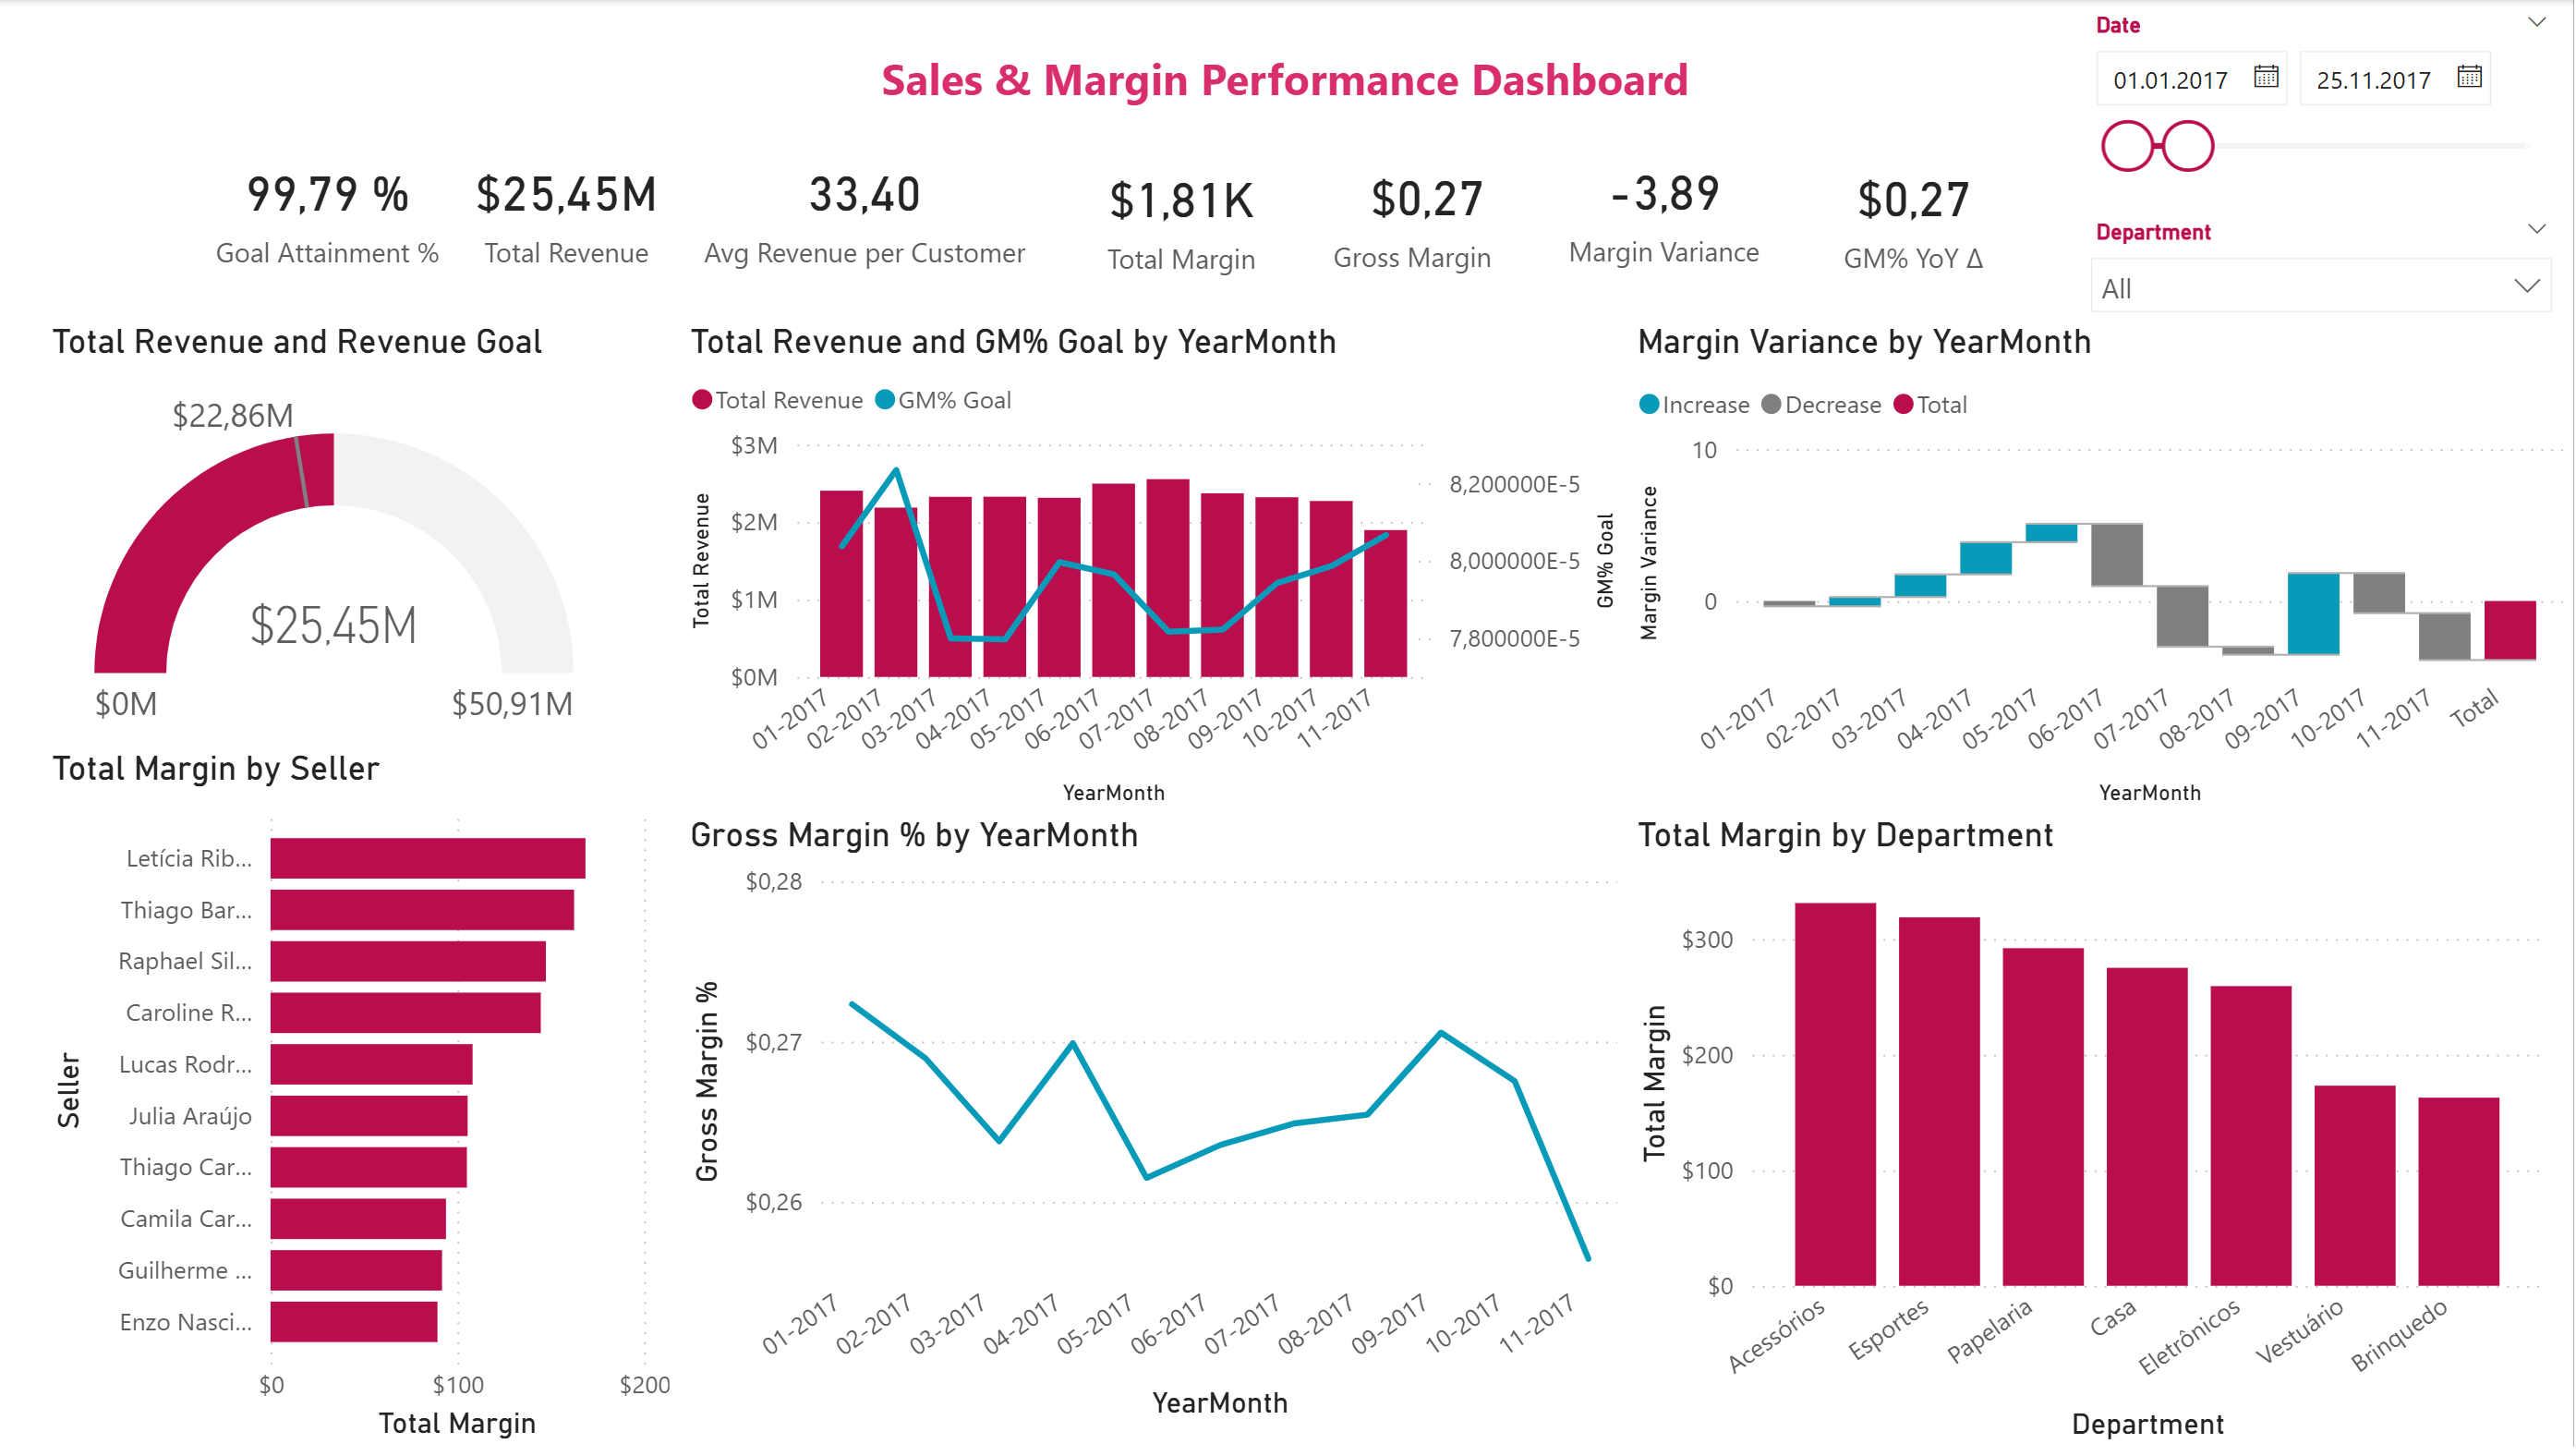

The page's visual inventory and layout, read from the dashboard file:
{"tool":"powerbi","page":{"name":"Sales & Margin Performance Dashboard","canvas":[1280,720],"ordinal":0},"visuals":[{"type":"textbox","box":[10,0,280,280],"z":0},{"type":"textbox","box":[405,19.5,470,47.4],"z":1000},{"type":"card","fields":{"Values":["zz_Measures.Total Revenue"]},"box":[225.8,67.5,113.3,73.1],"z":2000},{"type":"slicer","fields":{"Values":["dim_date.date_id"]},"box":[1030.4,0.9,249.5,103],"z":3000},{"type":"slicer","fields":{"Values":["dim_department.department_name"]},"box":[1030.4,103.9,249.5,56],"z":4000},{"type":"card","fields":{"Values":["zz_Measures.Gross Margin %"]},"box":[654,69.9,112.5,73.1],"z":5000},{"type":"card","fields":{"Values":["zz_Measures.Total Margin"]},"box":[522.2,70.7,131.8,73.1],"z":6000},{"type":"card","fields":{"Values":["zz_Measures.Goal Attainment %"]},"box":[101.2,67.8,124.7,73.2],"z":7000},{"type":"card","fields":{"Values":["zz_Measures.Margin Variance"]},"box":[744.8,67.5,166.3,72.3],"z":8000},{"type":"card","fields":{"Values":["zz_Measures.GM% YoY Δ"]},"box":[893.4,69.9,117.3,73.9],"z":9000},{"type":"card","fields":{"Values":["zz_Measures.Avg Revenue per Customer"]},"box":[339.1,67.5,183.2,73.1],"z":10000},{"type":"lineStackedColumnComboChart","fields":{"Y":["zz_Measures.Total Revenue"],"Y2":["zz_Measures.GM% Goal"],"Category":["dim_date.YearMonth"]},"box":[338.9,160,470.9,244.9],"z":11000},{"type":"waterfallChart","fields":{"Y":["zz_Measures.Margin Variance"],"Category":["dim_date.YearMonth"]},"box":[809.9,160,470,244.9],"z":12000},{"type":"clusteredColumnChart","fields":{"Category":["dim_department.department_name"],"Y":["zz_Measures.Total Margin"]},"box":[809.9,404.9,460.1,315.4],"z":13000},{"type":"clusteredBarChart","fields":{"Category":["dim_seller.seller_name"],"Y":["zz_Measures.Total Margin"]},"box":[21.7,372.4,317.3,348],"z":14000},{"type":"lineChart","fields":{"Y":["zz_Measures.Gross Margin %"],"Category":["dim_date.YearMonth"]},"box":[338.9,404.9,470.9,304.6],"z":15000},{"type":"gauge","fields":{"Y":["zz_Measures.Total Revenue"],"TargetValue":["zz_Measures.Revenue Goal"]},"box":[21.7,160,290.1,210.6],"z":16000}]}

Visuals, with their boxes in screenshot pixels (x1, y1, x2, y2), scaled from the page's 1280x720 canvas onto the 2576x1456 screenshot:
textbox: (20,0,584,566)
textbox: (815,40,1761,135)
card - zz_Measures.Total Revenue: (454,137,683,285)
slicer - dim_date.date_id: (2074,2,2575,210)
slicer - dim_department.department_name: (2074,210,2575,323)
card - zz_Measures.Gross Margin %: (1316,141,1542,289)
card - zz_Measures.Total Margin: (1051,143,1316,291)
card - zz_Measures.Goal Attainment %: (204,137,454,285)
card - zz_Measures.Margin Variance: (1499,137,1833,283)
card - zz_Measures.GM% YoY Δ: (1798,141,2034,291)
card - zz_Measures.Avg Revenue per Customer: (683,137,1051,285)
lineStackedColumnComboChart - zz_Measures.Total Revenue x zz_Measures.GM% Goal: (682,323,1629,819)
waterfallChart - zz_Measures.Margin Variance x dim_date.YearMonth: (1630,323,2575,819)
clusteredColumnChart - dim_department.department_name x zz_Measures.Total Margin: (1630,819,2556,1455)
clusteredBarChart - dim_seller.seller_name x zz_Measures.Total Margin: (43,753,683,1455)
lineChart - zz_Measures.Gross Margin % x dim_date.YearMonth: (682,819,1629,1435)
gauge - zz_Measures.Total Revenue x zz_Measures.Revenue Goal: (43,323,627,749)
